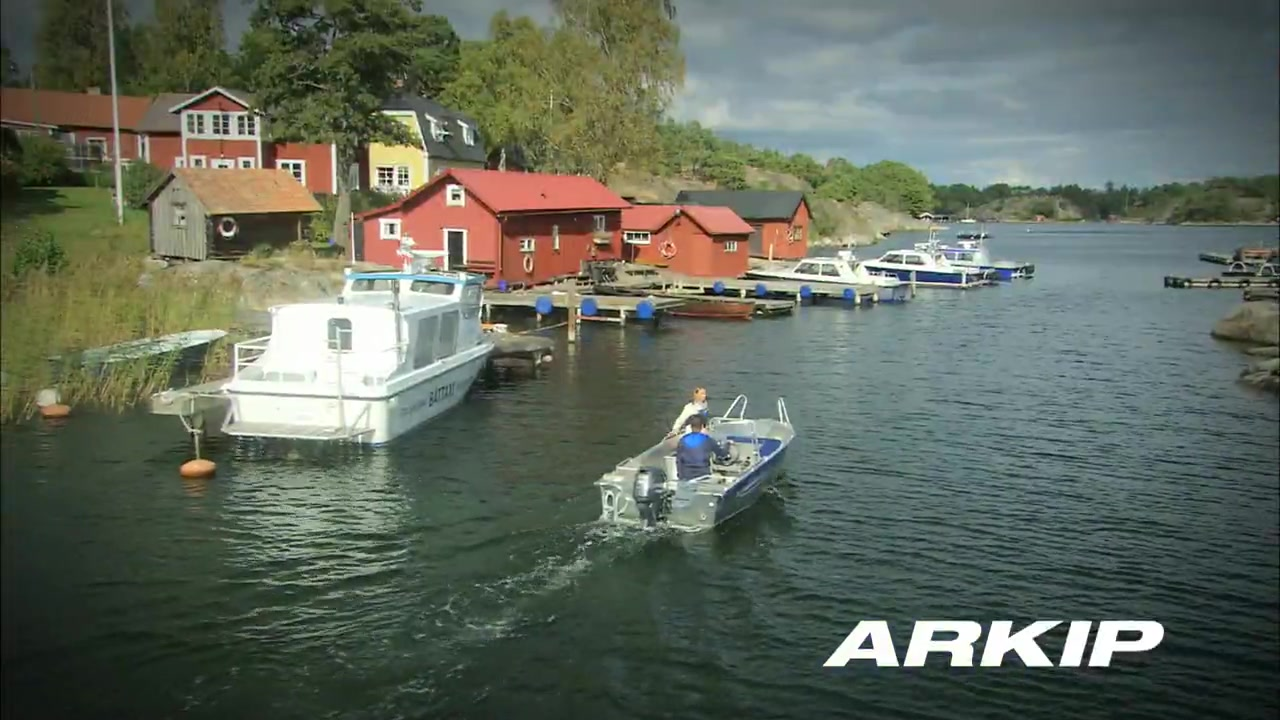boat: (595, 392, 798, 535)
